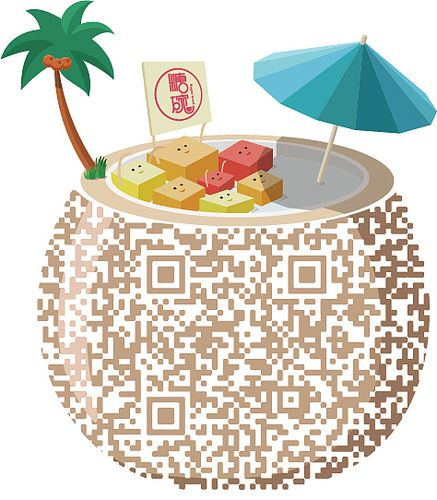QRCode: (144, 253, 329, 437)
